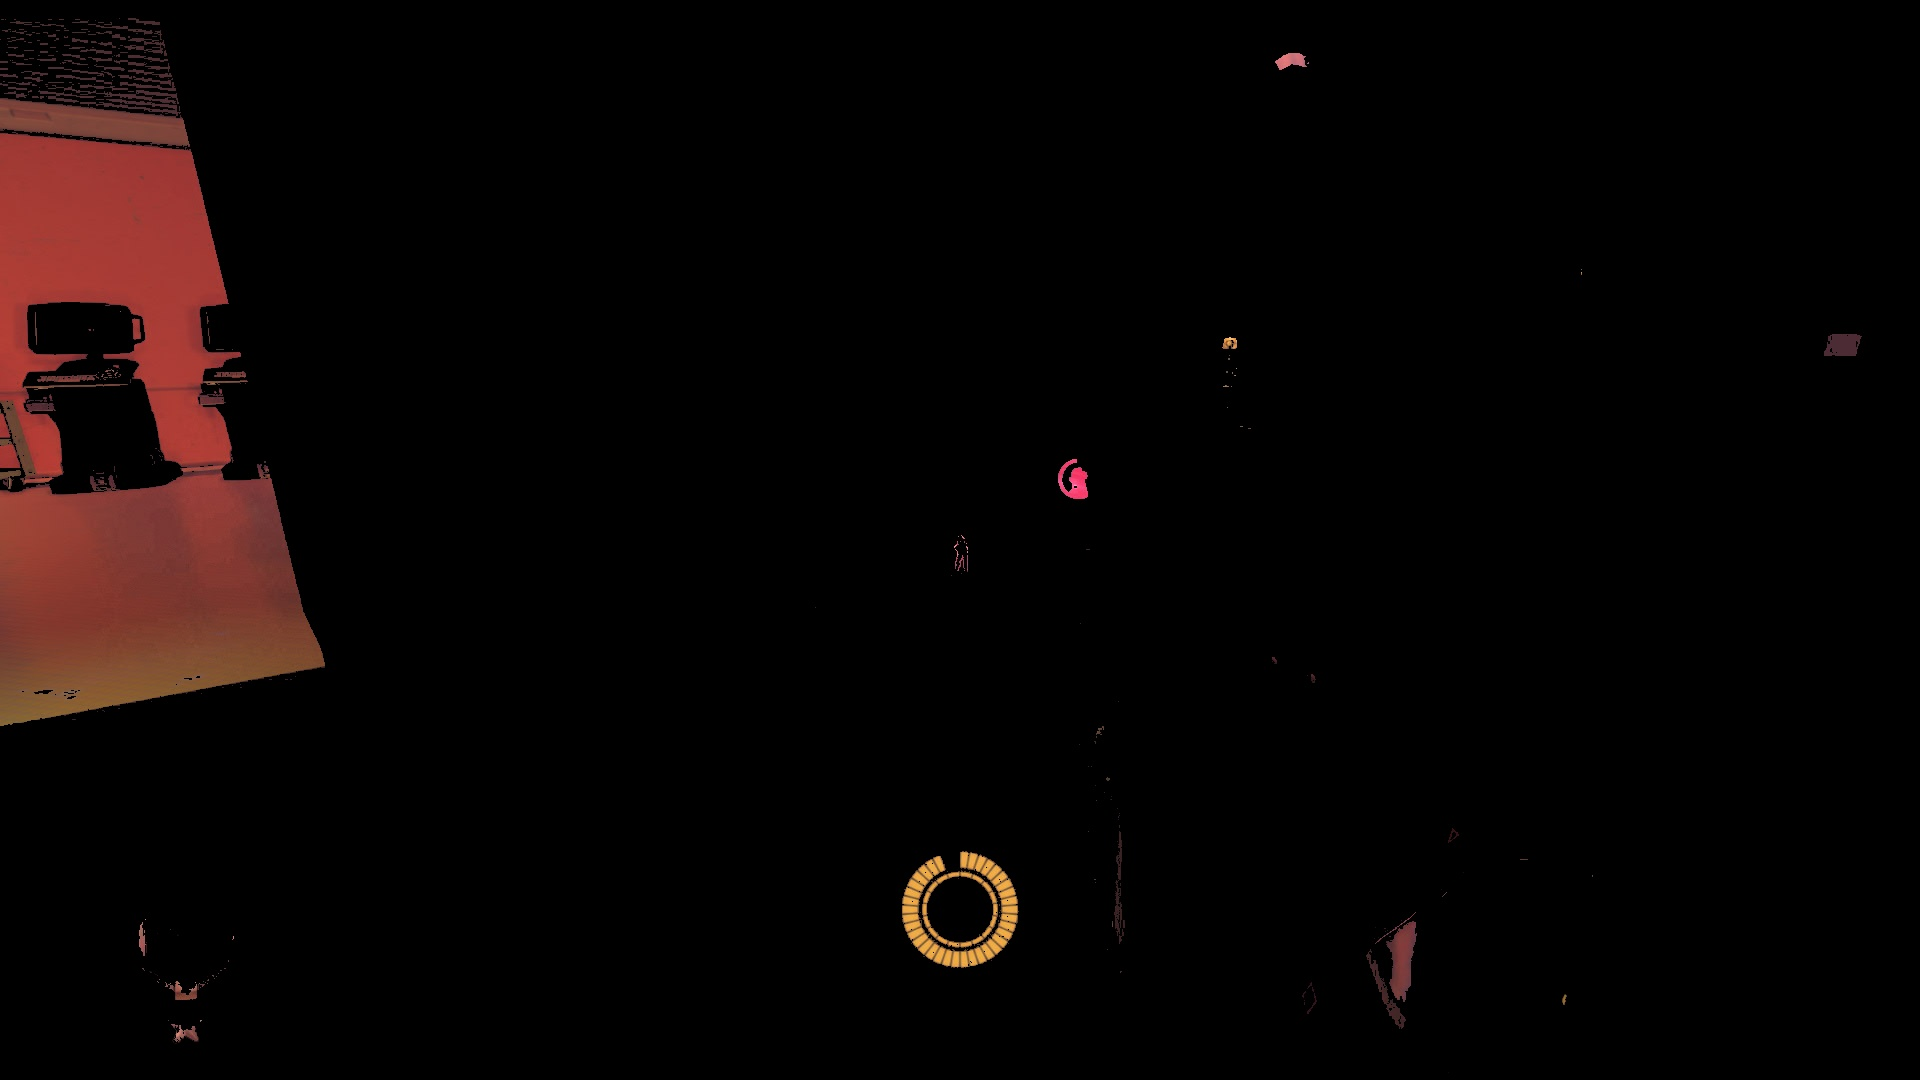widowmaker: (953, 535, 971, 572)
